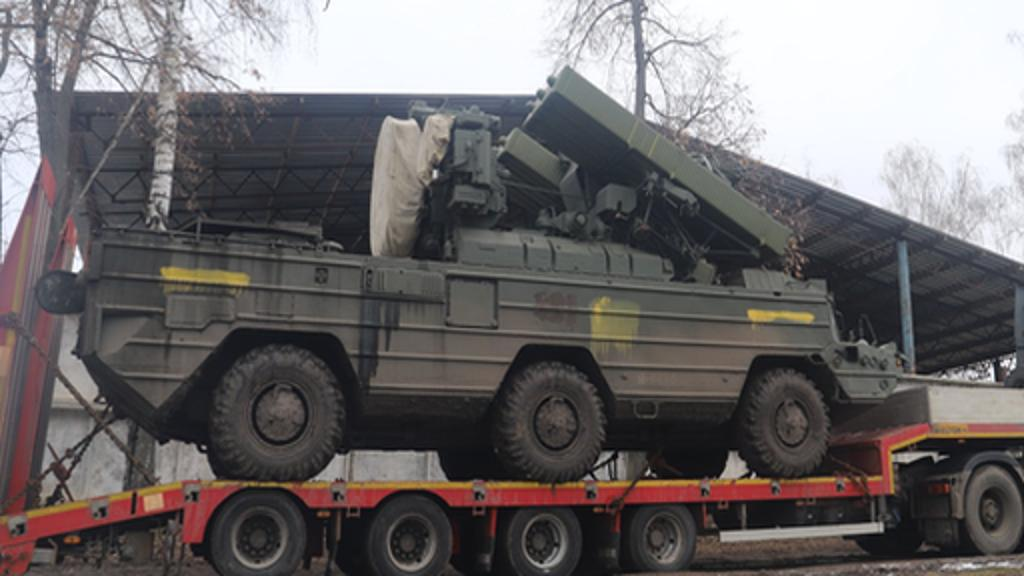MLRS: (34, 64, 906, 476)
